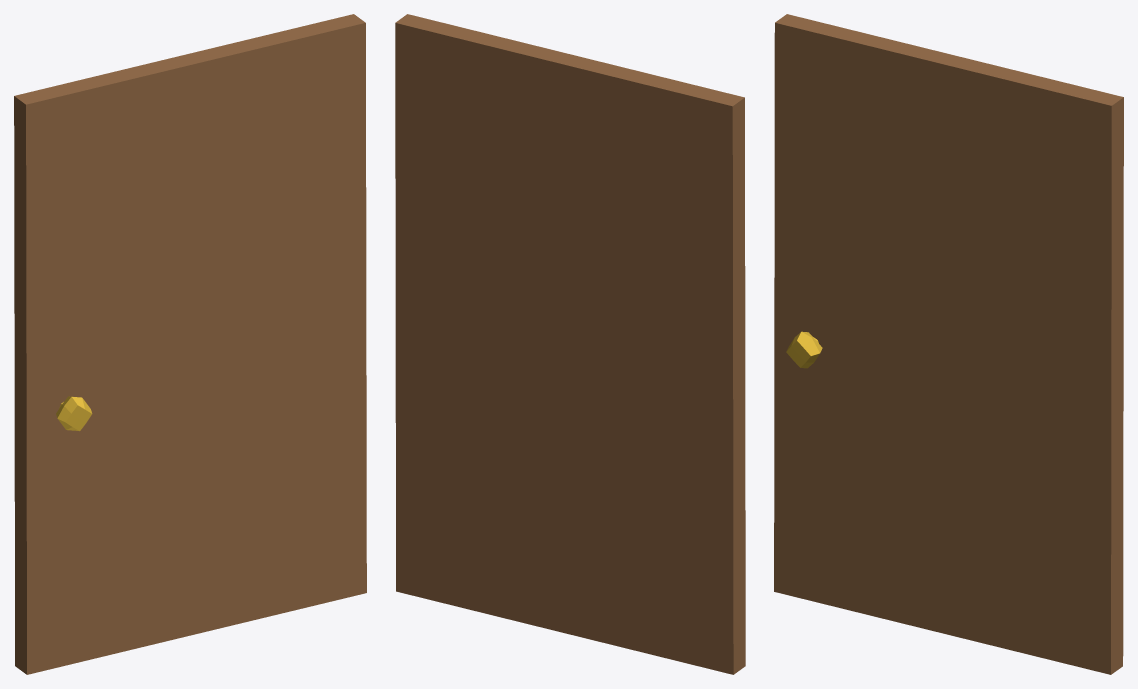
File: SKYSDOOR_V1.fbx
The picture shows the model from 3 angles, left to right: view 1: azimuth 30°, elevation 25°; view 2: azimuth 150°, elevation 25°; view 3: azimuth 330°, elevation 25°; orthographic projection.
Parts seen in each view (by area): view 1: Cube; view 2: Cube; view 3: Cube.
Part boxes in pixels (x1,y1,x2,y2): Cube: (14,14,366,674); Cube: (395,14,745,674); Cube: (774,14,1123,674).
Size of the model in its own units: 181 by 290 by 24.99.
